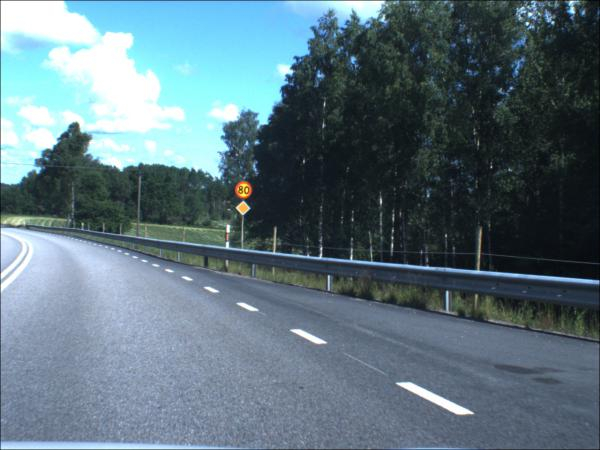80_SIGN: (237, 182, 255, 200)
PRIORITY_ROAD: (237, 202, 252, 217)
